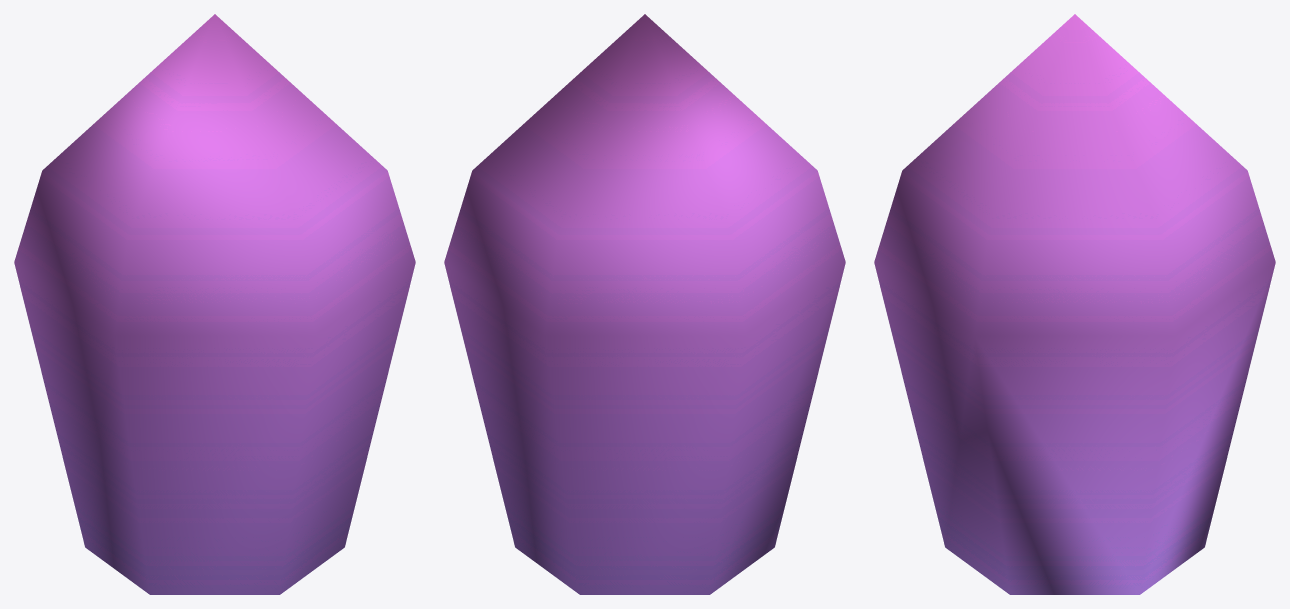
The model's file is detail-crystal.glb.
3 renders of one model, left to right at view 1: azimuth 30°, elevation 25°; view 2: azimuth 150°, elevation 25°; view 3: azimuth 270°, elevation 25°, orthographic.
Parts seen in each view (by area): view 1: detail-crystal; view 2: detail-crystal; view 3: detail-crystal.
Part boxes in pixels (<box>): detail-crystal: <box>14,14,415,594</box>; detail-crystal: <box>444,14,845,594</box>; detail-crystal: <box>874,14,1275,594</box>.
Size of the model in its own units: 0.2512 by 0.425 by 0.29.
Materials: 1 (1 with a texture image).
